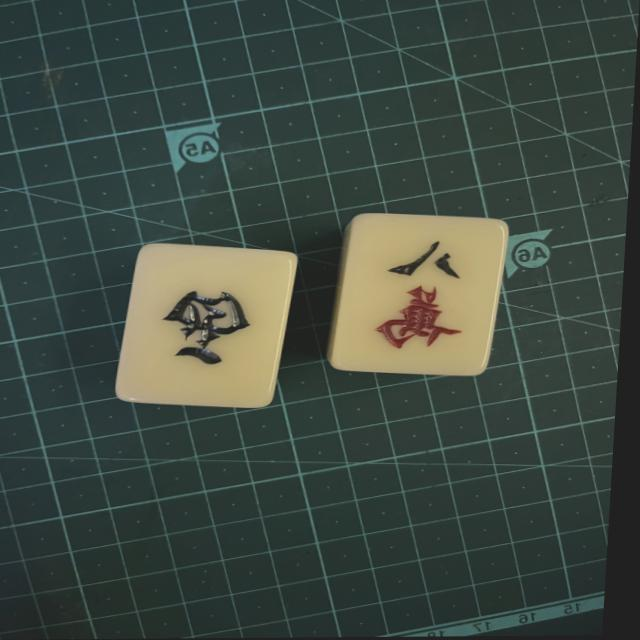8C: (349, 222, 504, 365)
WW: (136, 261, 269, 393)
